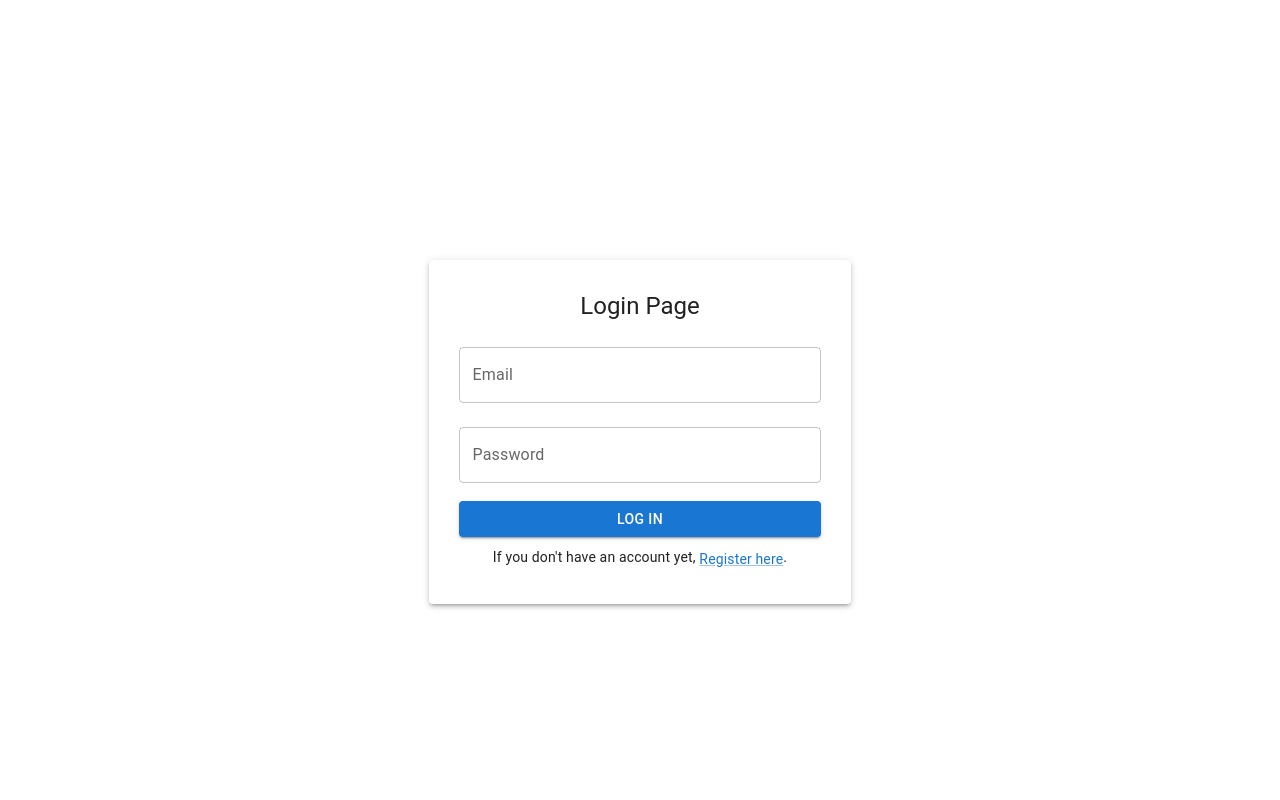
Scenario: Unit testing in LoginForm › should render login form and submit it
In the field labelled "Email": (640, 375) [459,347,821,403], type "test@example.com"
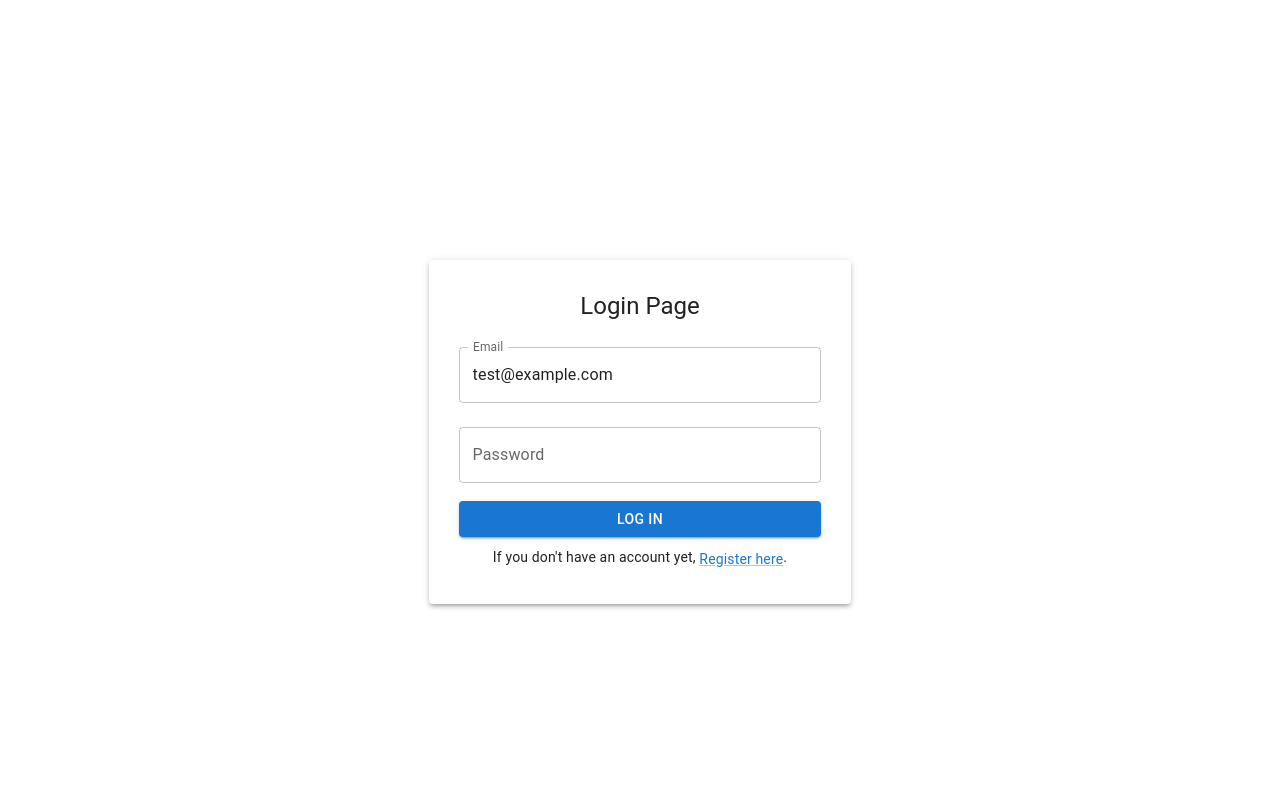
In the password field labelled "Password": (640, 455) [459,427,821,483], type "password123"
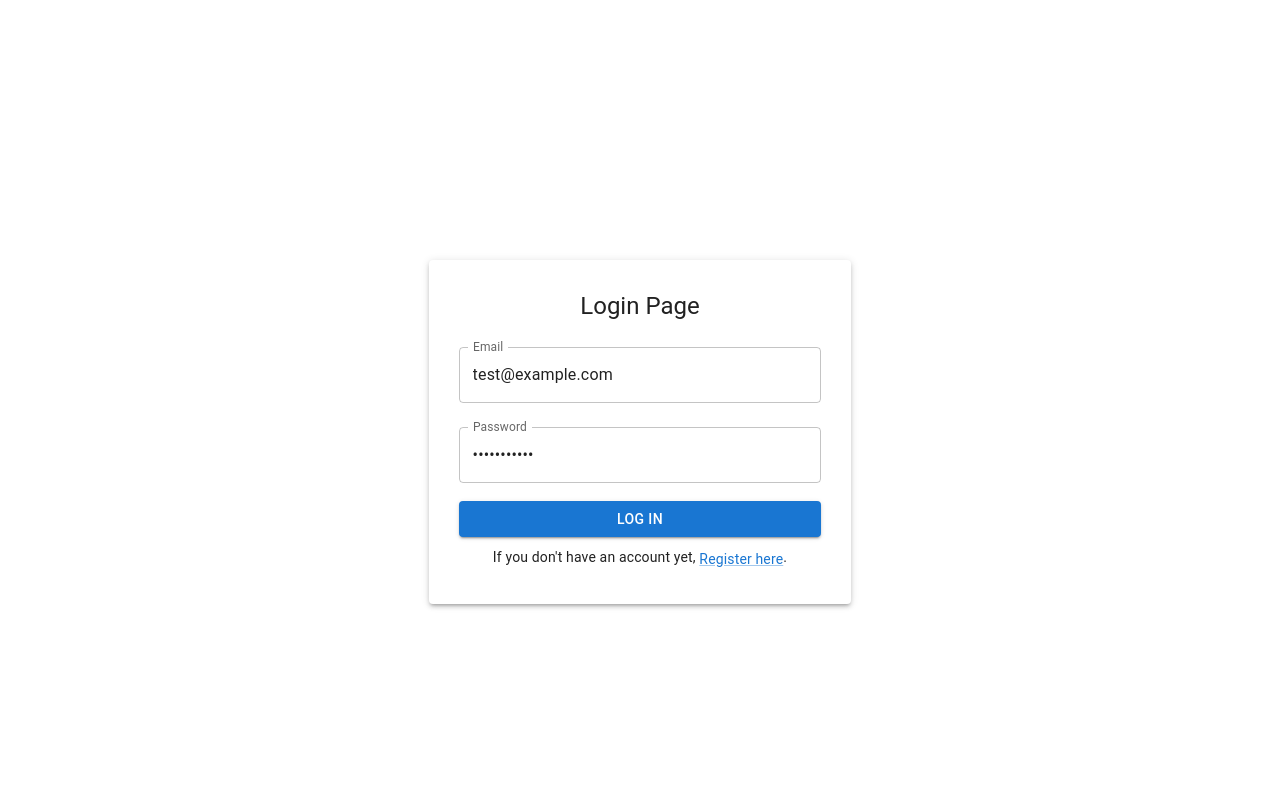
Click the button "Log In": (640, 519) [459,501,821,537]
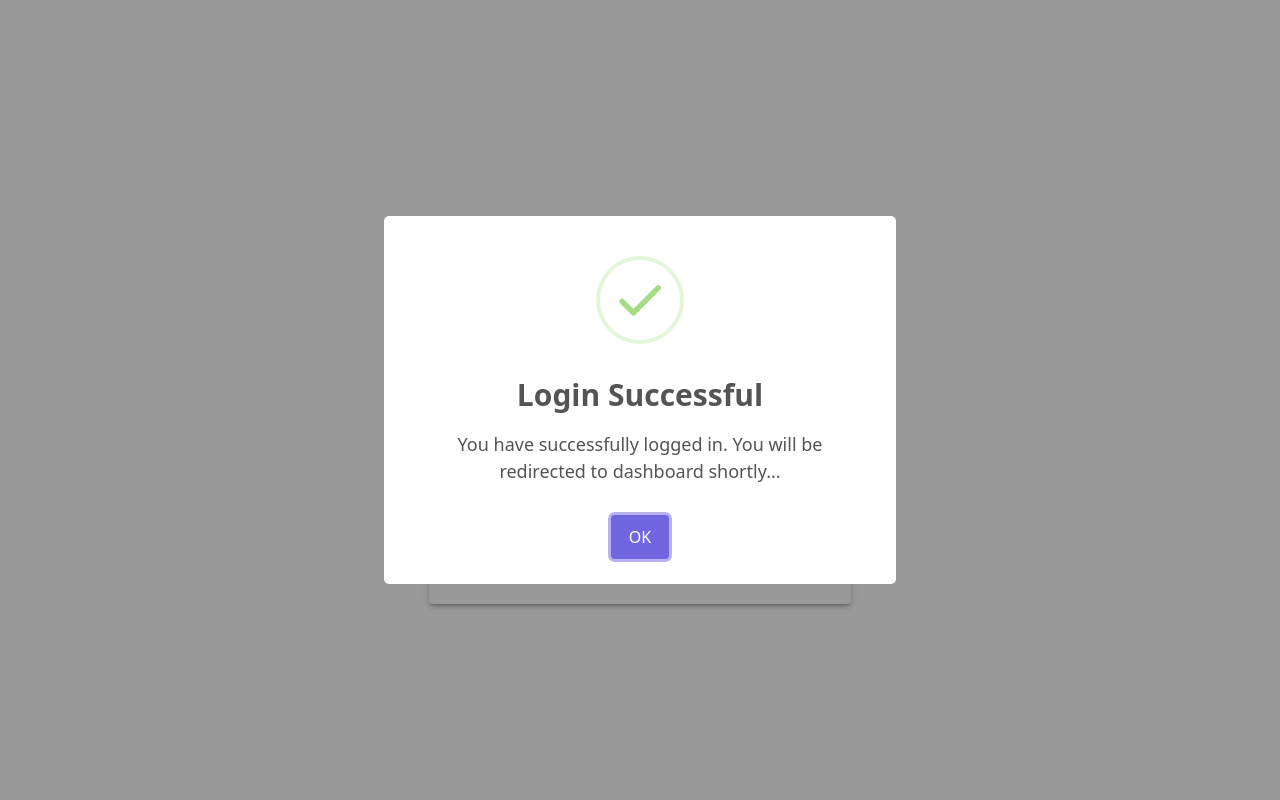
Expected: the heading "Login Successful" is shown, [517,374,763,415]
